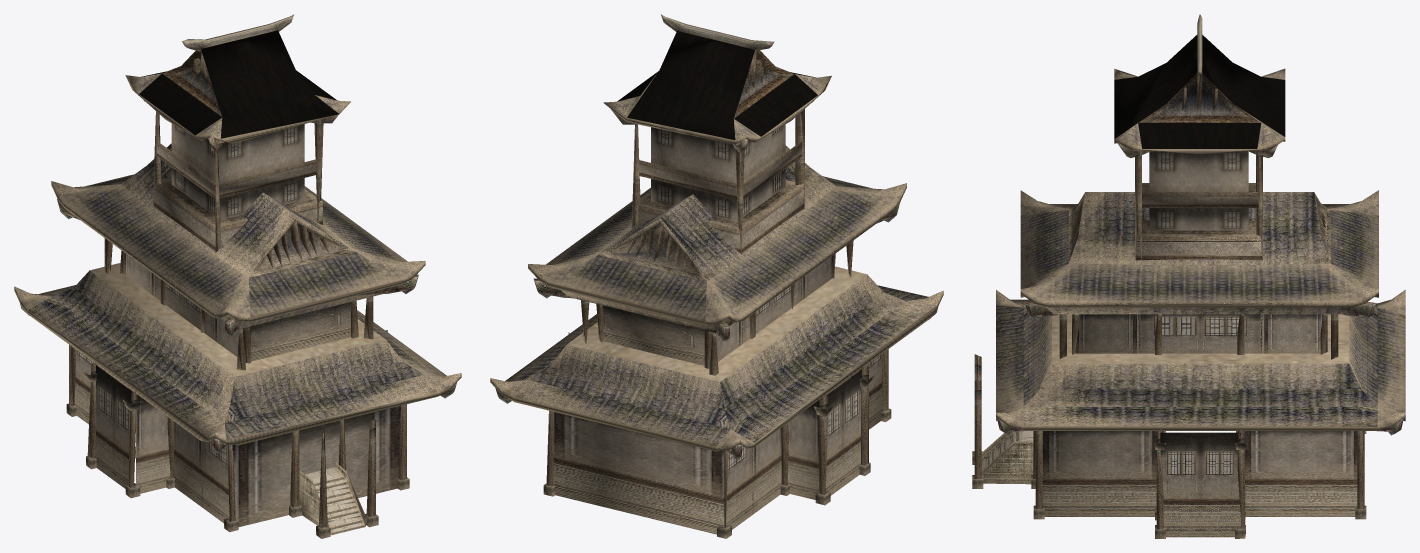
Rendered from desert-castle02_lod_01.glb.
3 renders of one model, left to right at view 1: azimuth 30°, elevation 25°; view 2: azimuth 150°, elevation 25°; view 3: azimuth 270°, elevation 25°, orthographic. The views are drawn at different scales.
Parts seen in each view (by area): view 1: desert-castle02-02, desert-castle02-01; view 2: desert-castle02-02, desert-castle02-01; view 3: desert-castle02-02, desert-castle02-01.
Boxes of the visible parts, x1,y1,x2,y2 form: desert-castle02-02: [14, 143, 461, 526]; desert-castle02-01: [66, 14, 409, 538]; desert-castle02-02: [490, 145, 943, 534]; desert-castle02-01: [543, 14, 891, 538]; desert-castle02-02: [996, 190, 1405, 537]; desert-castle02-01: [972, 14, 1366, 538].
Size of the model in its own units: 21.37 by 32.74 by 29.7.
Materials: 2 (2 with a texture image).
